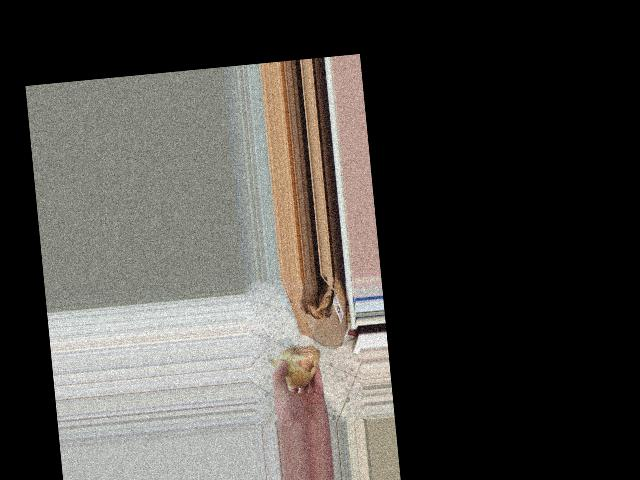onion: (271, 339, 324, 393)
